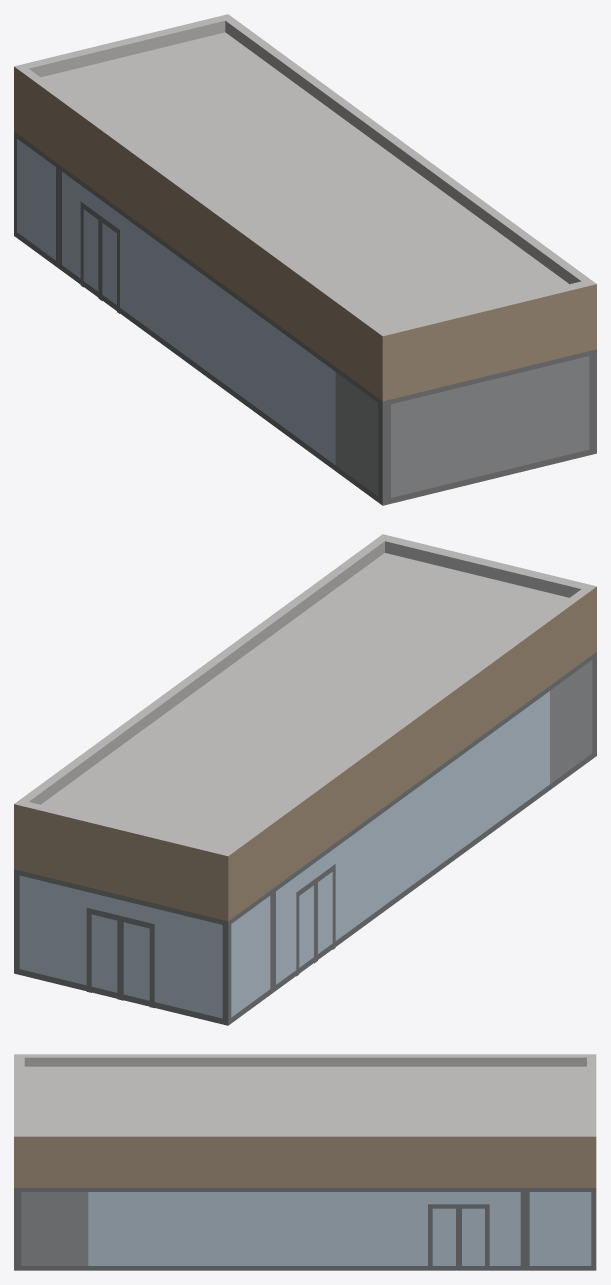
The model's file is omskheartstreetlod.glb.
3 renders of one model, top to bottom at view 1: azimuth 30°, elevation 25°; view 2: azimuth 150°, elevation 25°; view 3: azimuth 270°, elevation 25°, orthographic. The views are drawn at different scales.
Parts seen in each view (by area): view 1: omskheartstreetlod; view 2: omskheartstreetlod; view 3: omskheartstreetlod.
Boxes of the visible parts, x1=… form: omskheartstreetlod: x1=14, y1=14, x2=596, y2=505; omskheartstreetlod: x1=14, y1=534, x2=596, y2=1025; omskheartstreetlod: x1=14, y1=1054, x2=596, y2=1270.
Size of the model in its own units: 8.3 by 6.23 by 24.61.
1 material, 1 textured.
